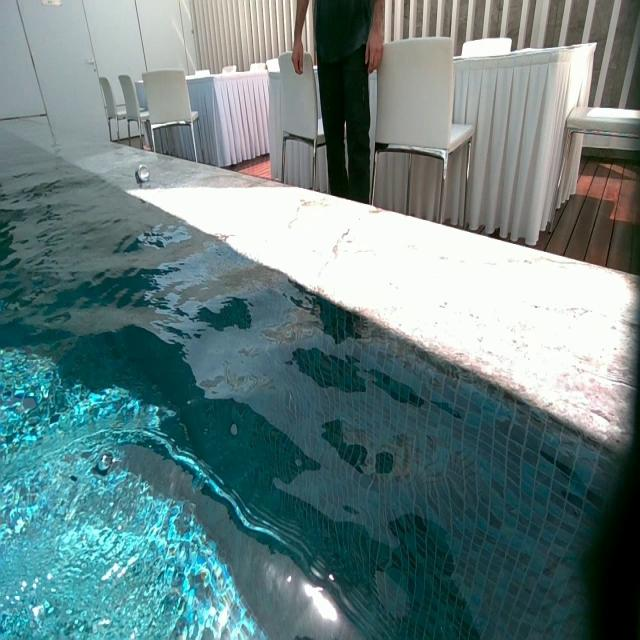Cans: (136, 164, 149, 183)
